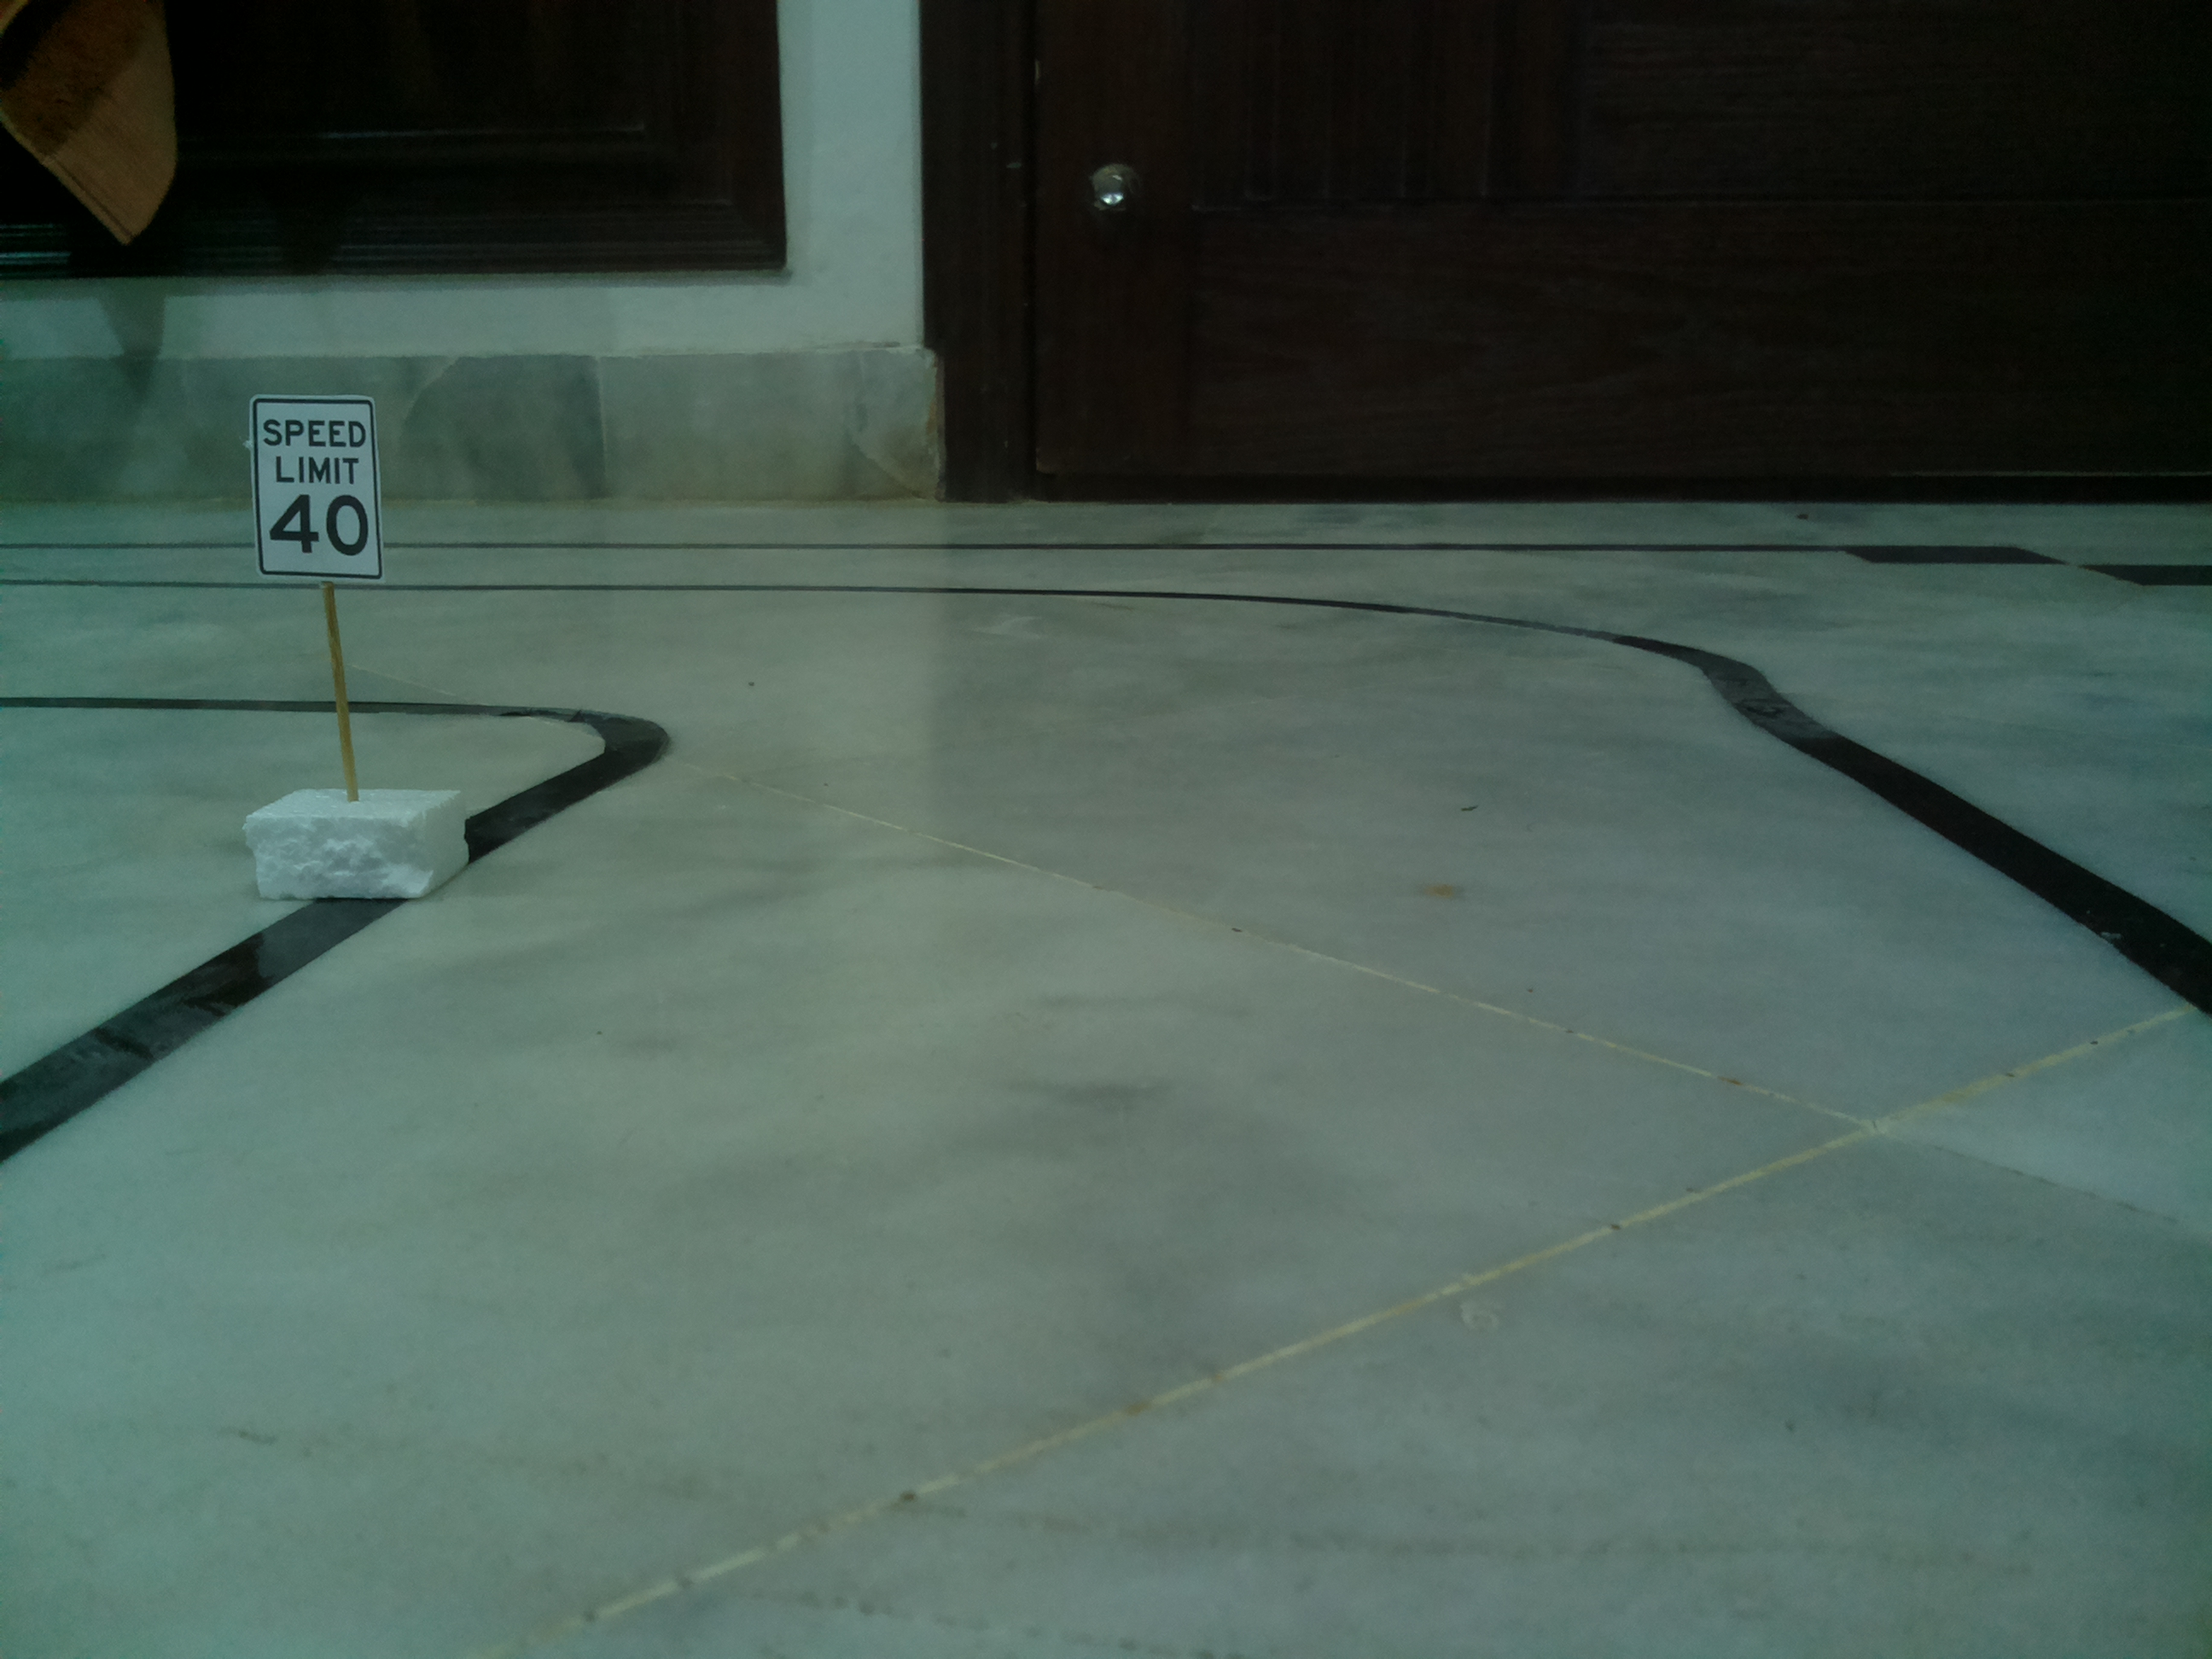Speed limit 40: (244, 383, 387, 586)
